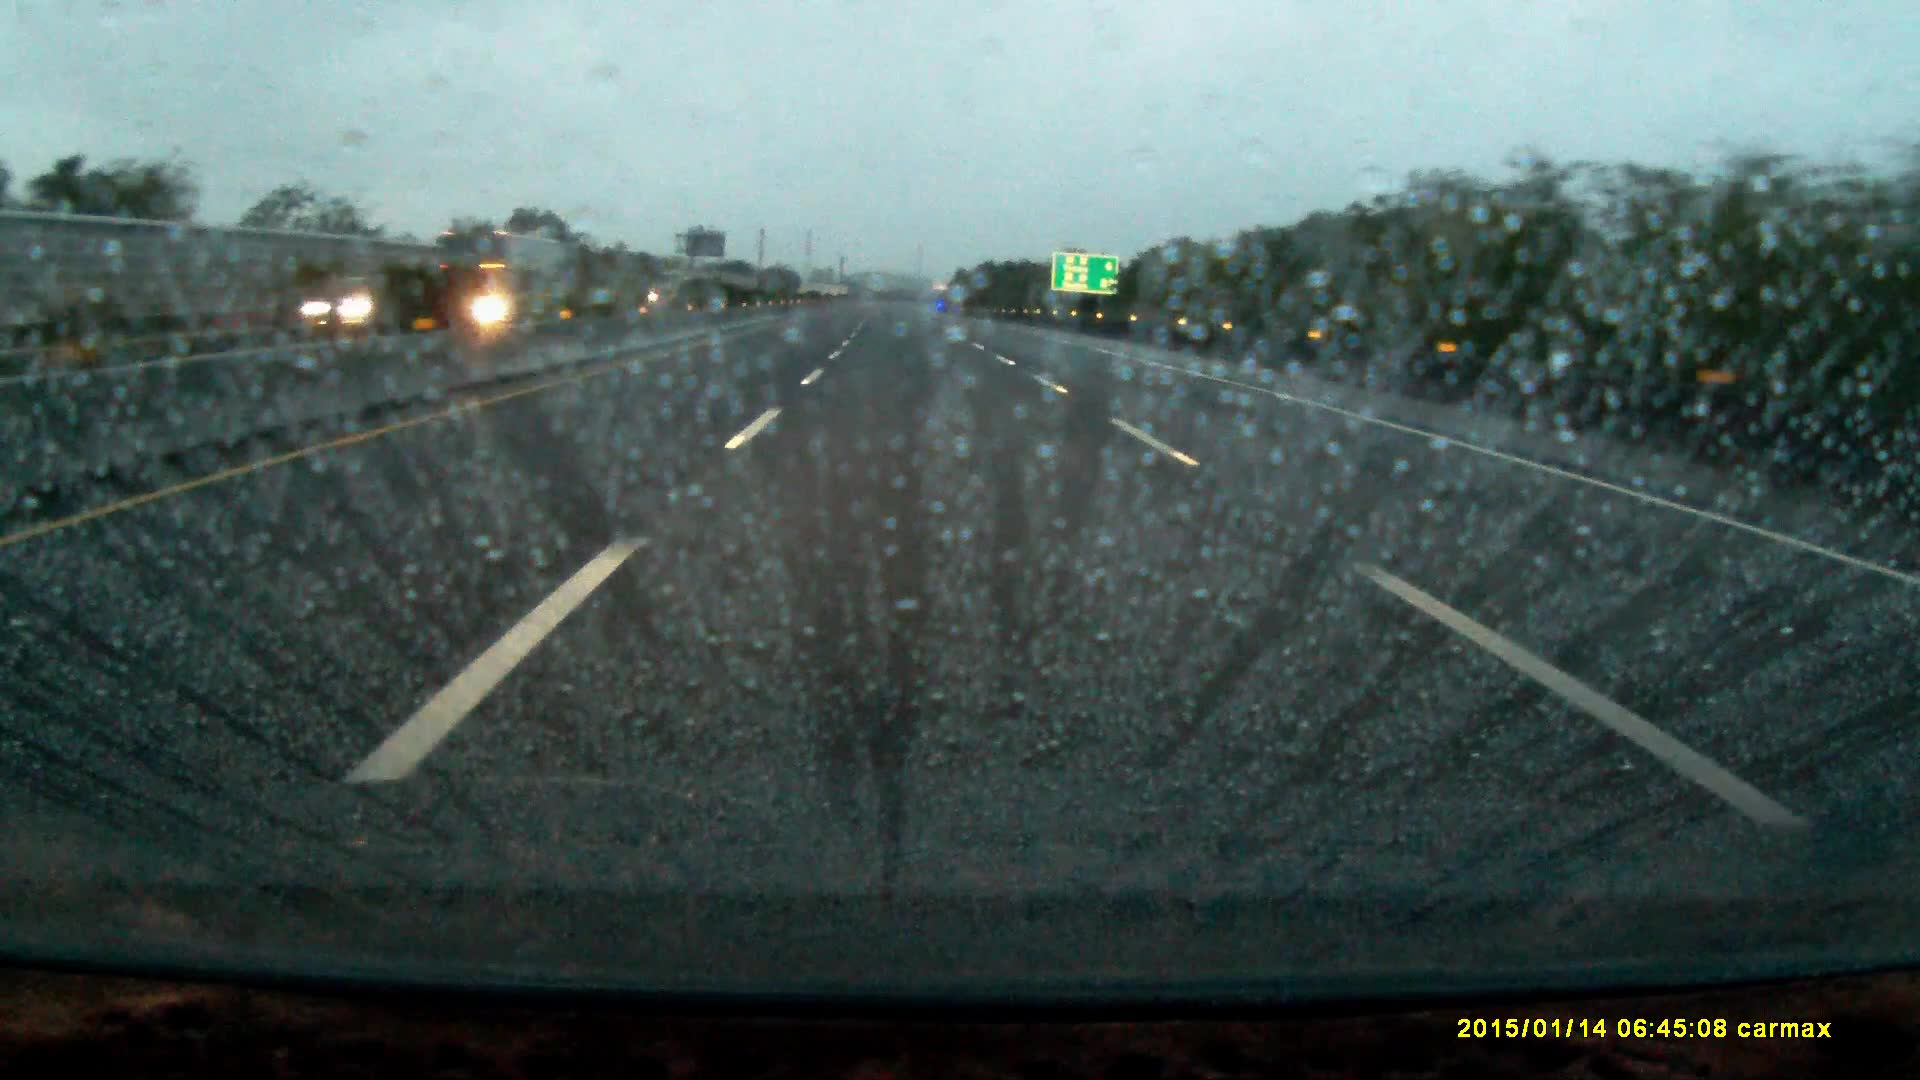vehicle: (429, 228, 562, 323), (302, 280, 406, 335), (650, 270, 696, 306)
